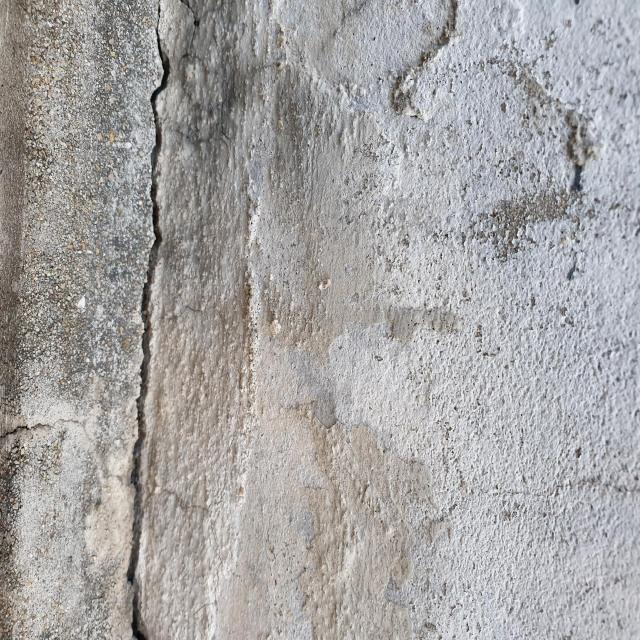SurfaceCrack: (79, 1, 219, 640)
